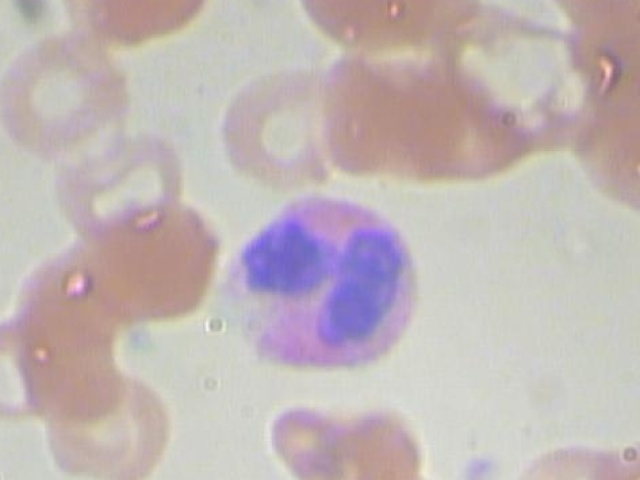Platelets: (449, 443, 508, 480)
RBC: (199, 49, 358, 207), (73, 184, 232, 341), (45, 89, 203, 246), (0, 5, 145, 162), (392, 42, 527, 186), (7, 223, 143, 358), (9, 293, 145, 428), (40, 357, 176, 480), (284, 0, 484, 57), (0, 301, 74, 436), (30, 0, 214, 47), (502, 432, 624, 480), (522, 0, 640, 41), (624, 94, 640, 238), (611, 432, 640, 480)
WBC: (216, 182, 439, 396)
